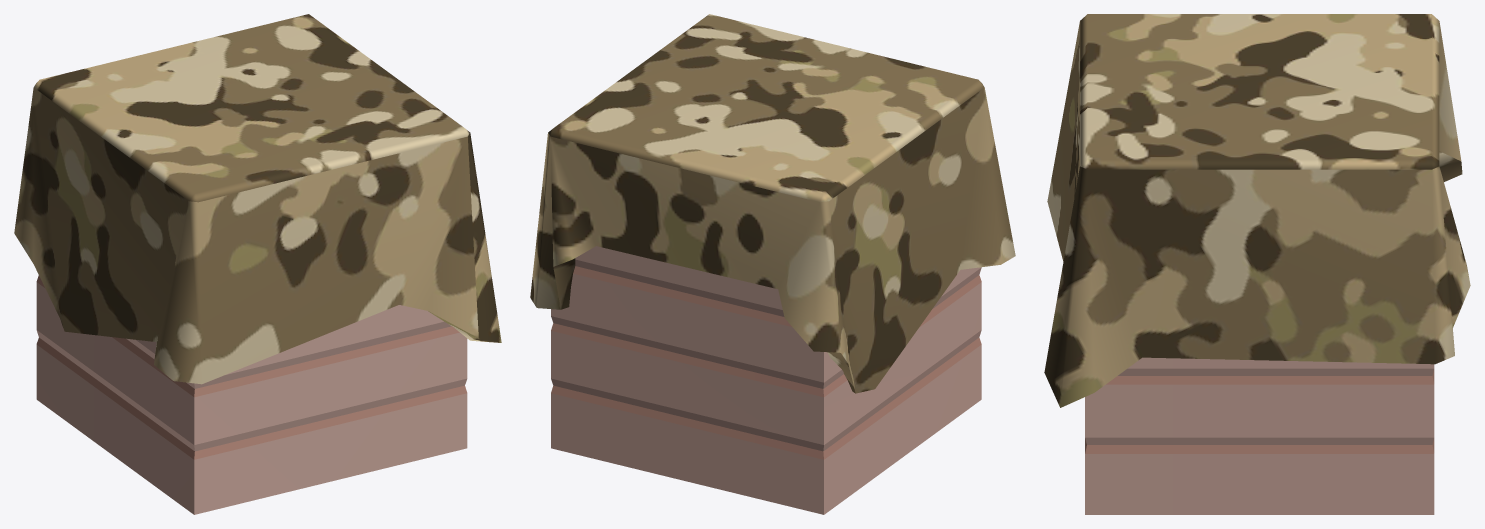
3 views of the same model, side by side, from view 1: azimuth 30°, elevation 25°; view 2: azimuth 150°, elevation 25°; view 3: azimuth 270°, elevation 25° (orthographic). The views are drawn at different scales.
Parts seen in each view (by area): view 1: Box_022; view 2: Box_022; view 3: Box_022.
Boxes of the visible parts, left/top/right/bottom form: Box_022: left=14, top=14, right=501, bottom=514; Box_022: left=530, top=14, right=1015, bottom=514; Box_022: left=1044, top=14, right=1470, bottom=514.
Size of the model in its own units: 1.44 by 1.32 by 1.44.
2 materials, 2 textured.
